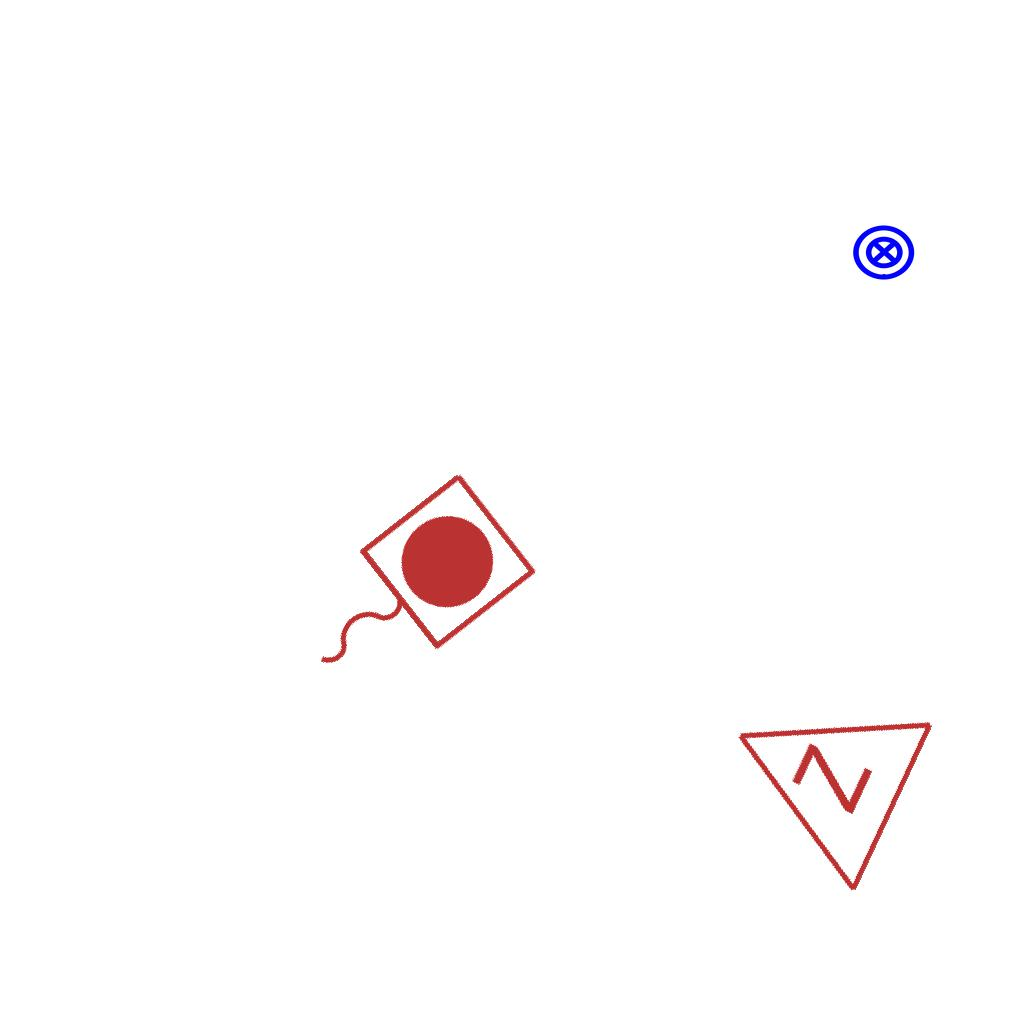Taster_beleuchtet: (851, 219, 917, 285)
Zimmersignalleuchte: (683, 642, 949, 906)
Zugtaster: (266, 459, 548, 723)
